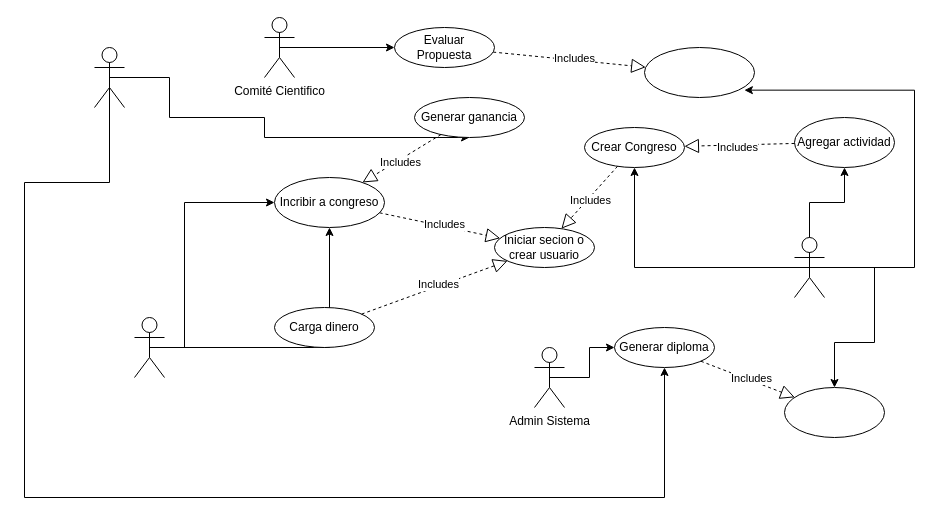
Image size: 940x523. Some labels were removed from this diagram. Here are the shapes that lost their labels. From the top down, the centre of each, then its label:
the point at 109,77: Sistema
the point at 699,72: Abrir combocatoria
the point at 809,267: Admin Congreso
the point at 149,347: Participante
the point at 834,412: Registra asistencia
